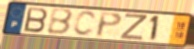1: (147, 15, 161, 42)
B: (46, 8, 75, 36), (23, 6, 50, 33)
C: (72, 10, 99, 37)
P: (95, 11, 124, 39)
Z: (119, 13, 149, 42)
